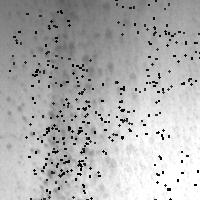pitted_surface: (10, 1, 138, 200), (9, 10, 68, 70), (25, 115, 85, 174), (108, 81, 168, 139), (65, 83, 123, 143), (46, 119, 105, 175), (31, 59, 89, 115), (146, 26, 200, 85), (30, 157, 90, 200), (154, 151, 200, 200), (114, 0, 174, 33)
